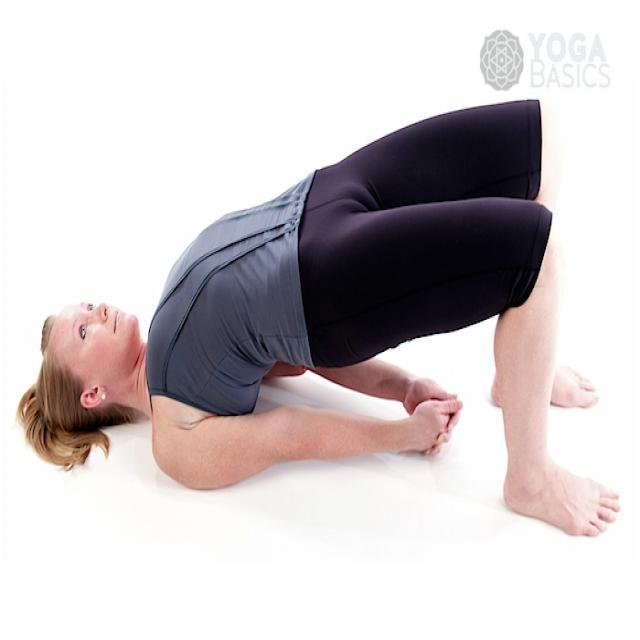yoga-pose bridge: (38, 94, 620, 544)
